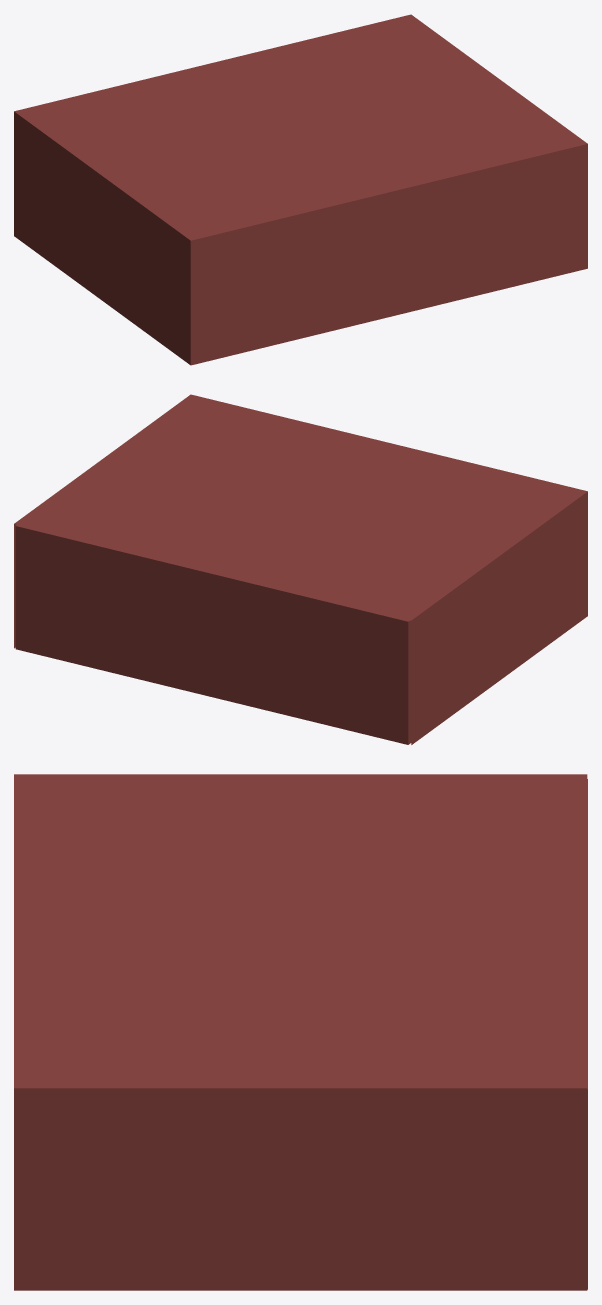
File: Bakery_Box_D.FBX
3 renders of one model, top to bottom at view 1: azimuth 30°, elevation 25°; view 2: azimuth 150°, elevation 25°; view 3: azimuth 270°, elevation 25°, orthographic. The views are drawn at different scales.
Visible parts, largest first — view 1: Lid; view 2: Lid, Bakery_Box; view 3: Lid.
Boxes of the visible parts, box(x1,y1,x2,y2) form: Lid: box(14, 14, 587, 365); Lid: box(14, 394, 587, 744); Bakery_Box: box(15, 524, 411, 744); Lid: box(14, 774, 587, 1290).
Size of the model in its own units: 152 by 45.57 by 117.
